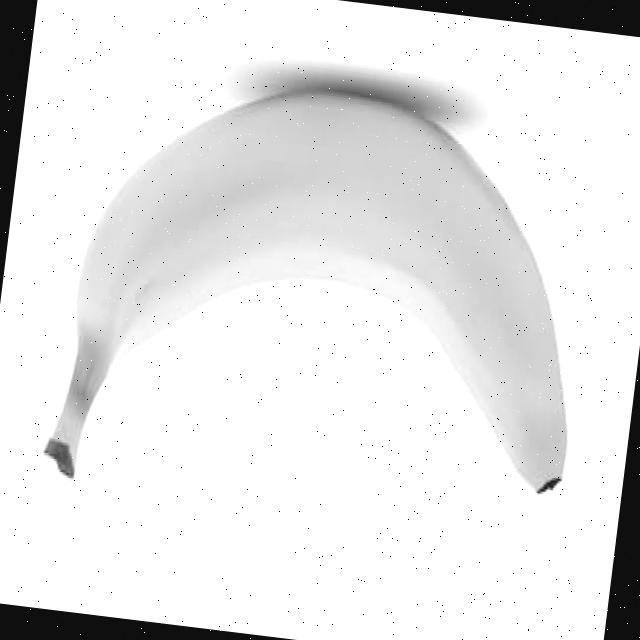Ripe: (38, 56, 611, 536)
